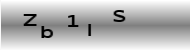1: (66, 14, 80, 28)
S: (112, 9, 126, 23)
Z: (22, 13, 38, 27)
b: (39, 25, 53, 39)
l: (86, 24, 92, 36)
